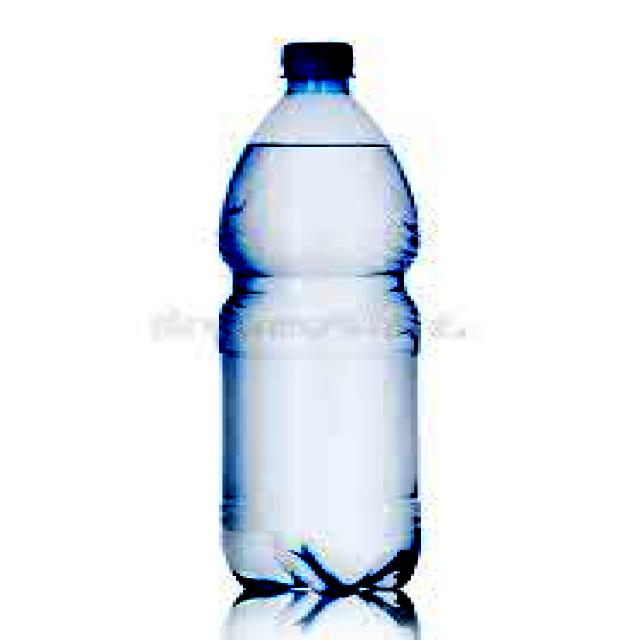Plastic: (212, 38, 430, 596)
